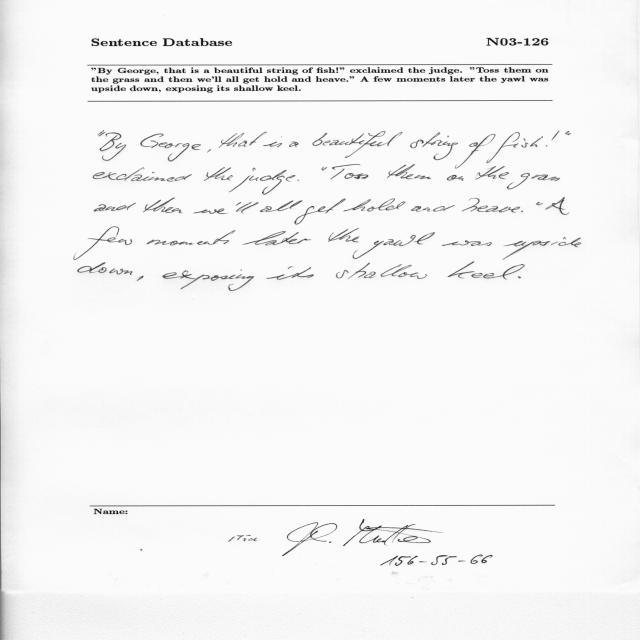word: (313, 131, 403, 158), (352, 232, 435, 259), (162, 269, 254, 291), (74, 227, 132, 260), (503, 237, 582, 260), (229, 168, 295, 195), (486, 132, 543, 163), (140, 134, 201, 162), (336, 262, 427, 279), (93, 167, 192, 182), (447, 262, 525, 280), (455, 134, 495, 169), (294, 199, 346, 225), (410, 132, 458, 160), (147, 230, 235, 245), (242, 231, 311, 246), (344, 198, 406, 212), (507, 173, 560, 189), (462, 198, 520, 212), (219, 132, 267, 148), (100, 132, 126, 161), (78, 262, 133, 275), (266, 266, 314, 280), (387, 165, 431, 180), (143, 198, 183, 213), (193, 202, 241, 214), (331, 165, 369, 180), (260, 200, 303, 212), (475, 166, 509, 180), (328, 228, 360, 242), (545, 197, 569, 215), (204, 167, 233, 181), (94, 203, 136, 211), (411, 205, 455, 212), (441, 240, 492, 246), (236, 203, 259, 214), (546, 131, 560, 146), (263, 137, 282, 148), (447, 175, 464, 181), (289, 141, 298, 147), (98, 131, 105, 137), (137, 276, 144, 281), (565, 131, 571, 135), (536, 202, 543, 205), (322, 167, 327, 171), (207, 149, 211, 153), (518, 277, 521, 279), (297, 180, 299, 181), (521, 211, 523, 212)
